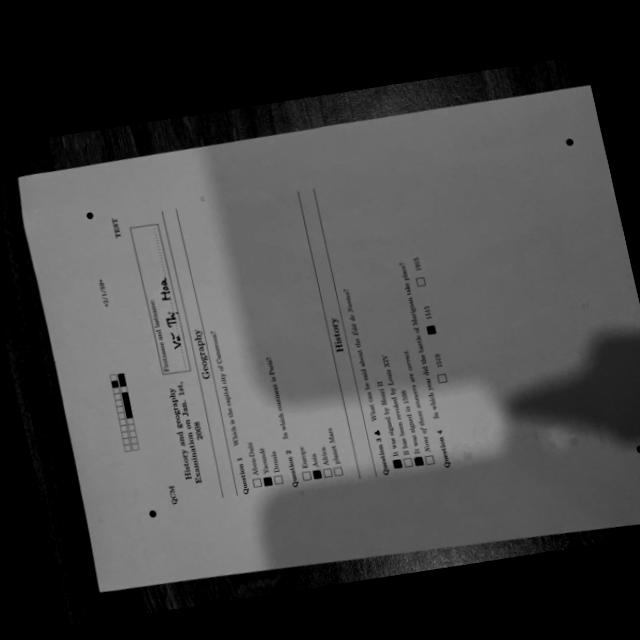Markers: (565, 136, 574, 145), (148, 509, 156, 517), (86, 210, 93, 219), (635, 444, 640, 453)
